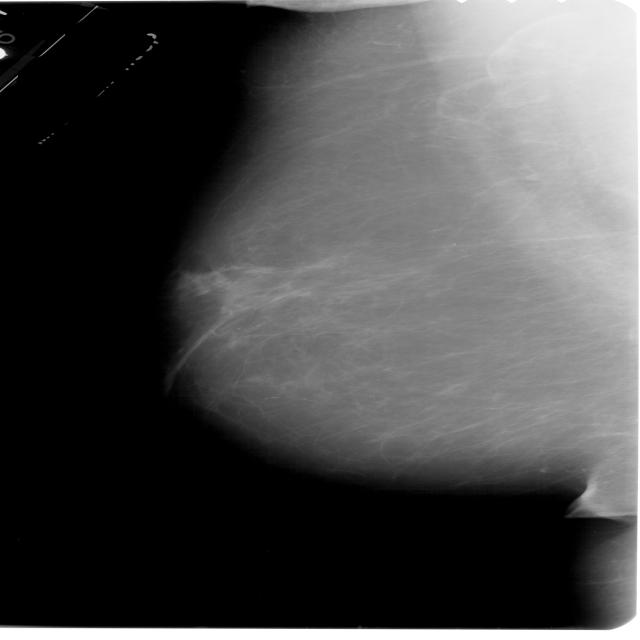normal: (121, 41, 640, 511)
